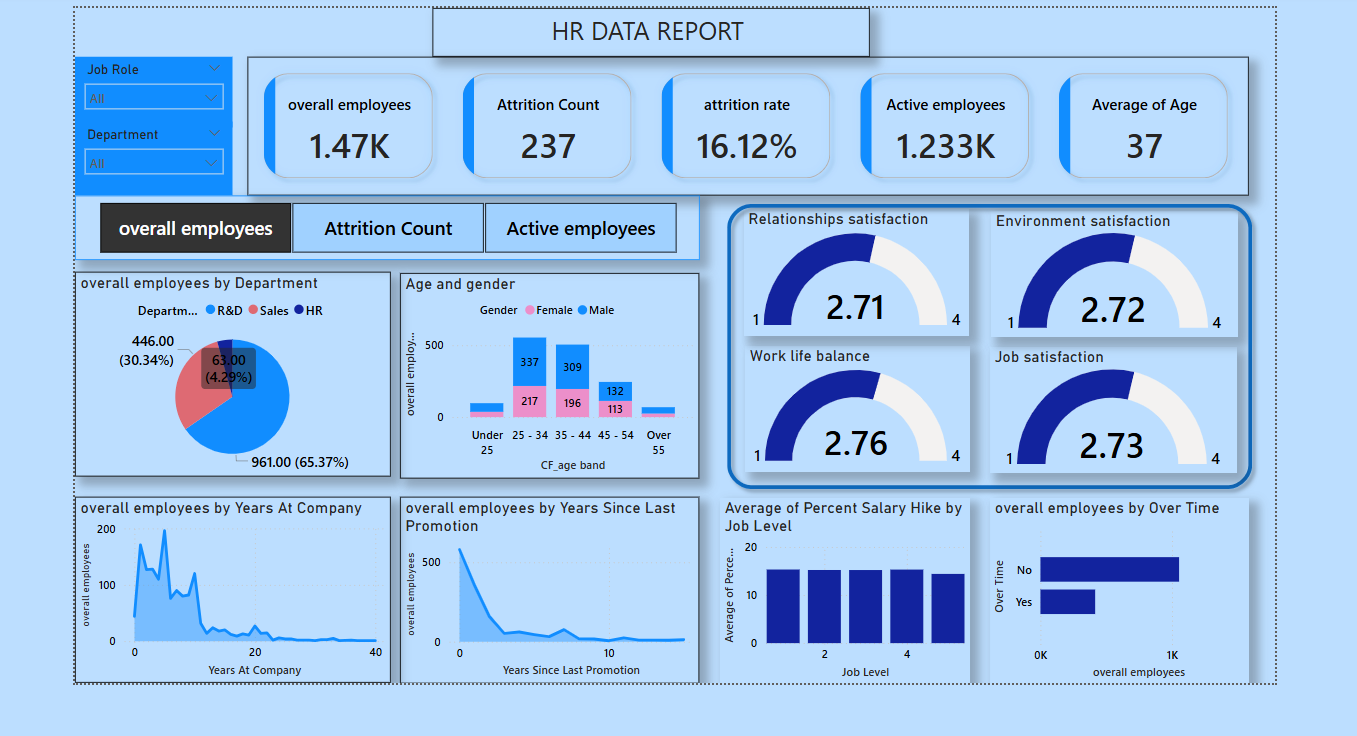

This screenshot's page, from the dashboard's own definition file:
{"tool":"powerbi","page":{"name":"Page 1","canvas":[1280,720],"ordinal":0},"visuals":[{"type":"cardVisual","fields":{"Data":["HR data.overall employees","HR data.Attrition Count","HR data.attrition rate","HR data.Active employees","Avg(HR data.Age)"]},"box":[183.3,51.7,1068.3,148.3],"z":0},{"type":"slicer","fields":{"Values":["Metrics.Metrics"]},"box":[0,200,666.2,69.1],"z":3},{"type":"pieChart","fields":{"Category":["HR data.Department"],"Y":["HR data.overall employees"]},"box":[0,281.7,336.7,218.3],"z":4},{"type":"columnChart","title":"Age and gender ","fields":{"Category":["HR data.CF_age band"],"Series":["HR data.Gender"],"Y":["HR data.overall employees"]},"box":[347.1,282.4,319.1,219.1],"z":5},{"type":"gauge","title":"Environment satisfaction ","fields":{"Y":["Avg(HR data.Environment Satisfaction)"],"MinValue":["Min(HR data.Environment Satisfaction)"],"MaxValue":["Max(HR data.Environment Satisfaction)1"]},"box":[977.9,216.2,263.2,135.3],"z":6},{"type":"shape","box":[686.8,200,577.9,322.1],"z":8},{"type":"gauge","title":"Relationships satisfaction ","fields":{"TargetValue":["Sum(HR data.Relationship Satisfaction)"],"Y":["Avg(HR data.Relationship Satisfaction)"],"MinValue":["Min(HR data.Relationship Satisfaction)"],"MaxValue":["Max(HR data.Relationship Satisfaction)"]},"box":[713.2,214.7,241.2,135.3],"z":9},{"type":"gauge","title":"Job satisfaction ","fields":{"Y":["Avg(HR data.Job Satisfaction)"],"MinValue":["Min(HR data.Job Satisfaction)1"],"MaxValue":["Max(HR data.Job Satisfaction)2"]},"box":[976.5,361.8,263.2,135.3],"z":10},{"type":"gauge","title":"Work life balance","fields":{"MaxValue":["Max(HR data.Work Life Balance)"],"MinValue":["Min(HR data.Work Life Balance)1"],"Y":["Avg(HR data.Work Life Balance)2"]},"box":[714.7,360.3,239.7,135.3],"z":11},{"type":"slicer","fields":{"Values":["HR data.Job Role"]},"box":[0,51.7,168.3,75],"z":12},{"type":"barChart","fields":{"Category":["HR data.Over Time"],"Y":["HR data.overall employees"]},"box":[976.5,522.1,276.5,198.5],"z":13},{"type":"stackedAreaChart","fields":{"Category":["HR data.Years At Company"],"Y":["HR data.overall employees"]},"box":[0,521.5,336.8,198.5],"z":14},{"type":"areaChart","fields":{"Category":["HR data.Years Since Last Promotion"],"Y":["HR data.overall employees"]},"box":[347,521,319,199],"z":15},{"type":"columnChart","fields":{"Category":["HR data.Job Level"],"Y":["Avg(HR data.Percent Salary Hike)"]},"box":[688,522,266,198],"z":16},{"type":"slicer","fields":{"Values":["HR data.Department"]},"box":[0,121.7,168.3,78.3],"z":17},{"type":"textbox","box":[381.7,0,466.7,51.7],"z":18}]}

Visuals, with their boxes on the page's 1280x720 design canvas (x1, y1, x2, y2). These are canvas units, not pixel positions in the 1357x736 screenshot, which may show the page scaled, cropped or inside an application window:
cardVisual - HR data.overall employees x HR data.Attrition Count: [183, 52, 1252, 200]
slicer - Metrics.Metrics: [0, 200, 666, 269]
pieChart - HR data.Department x HR data.overall employees: [0, 282, 337, 500]
"Age and gender " columnChart: [347, 282, 666, 502]
"Environment satisfaction " gauge: [978, 216, 1241, 352]
shape: [687, 200, 1265, 522]
"Relationships satisfaction " gauge: [713, 215, 954, 350]
"Job satisfaction " gauge: [976, 362, 1240, 497]
"Work life balance" gauge: [715, 360, 954, 496]
slicer - HR data.Job Role: [0, 52, 168, 127]
barChart - HR data.Over Time x HR data.overall employees: [976, 522, 1253, 721]
stackedAreaChart - HR data.Years At Company x HR data.overall employees: [0, 522, 337, 720]
areaChart - HR data.Years Since Last Promotion x HR data.overall employees: [347, 521, 666, 720]
columnChart - HR data.Job Level x Avg(HR data.Percent Salary Hike): [688, 522, 954, 720]
slicer - HR data.Department: [0, 122, 168, 200]
textbox: [382, 0, 848, 52]
